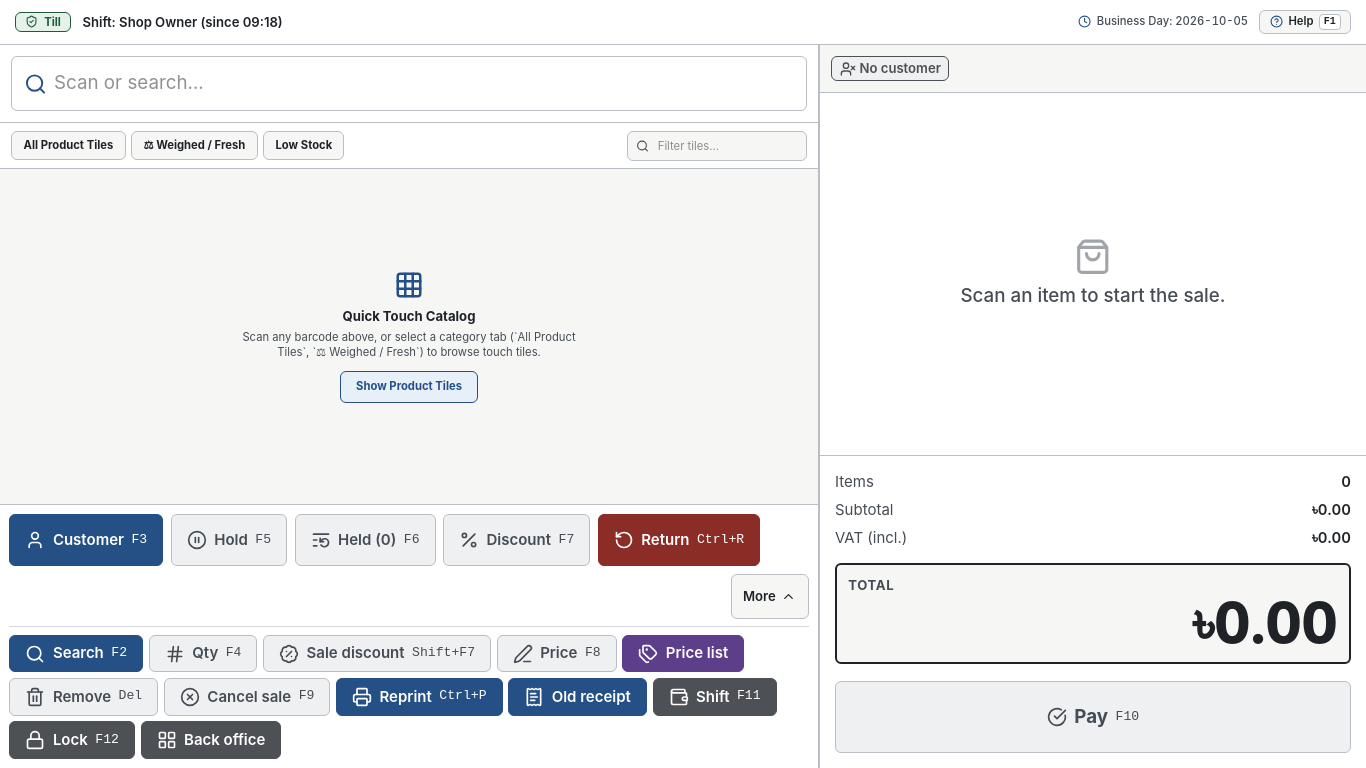
Test case: Returns, exchanges and voids (fake bridge) › ret_01: a return with the receipt refunds in cash and says how much to give back
This screenshot has width=1366, height=768.
Expected: the text "Scan an item to start the sale." is shown, [960, 283, 1226, 310]
Type keys "{Control>}r{/Control}"
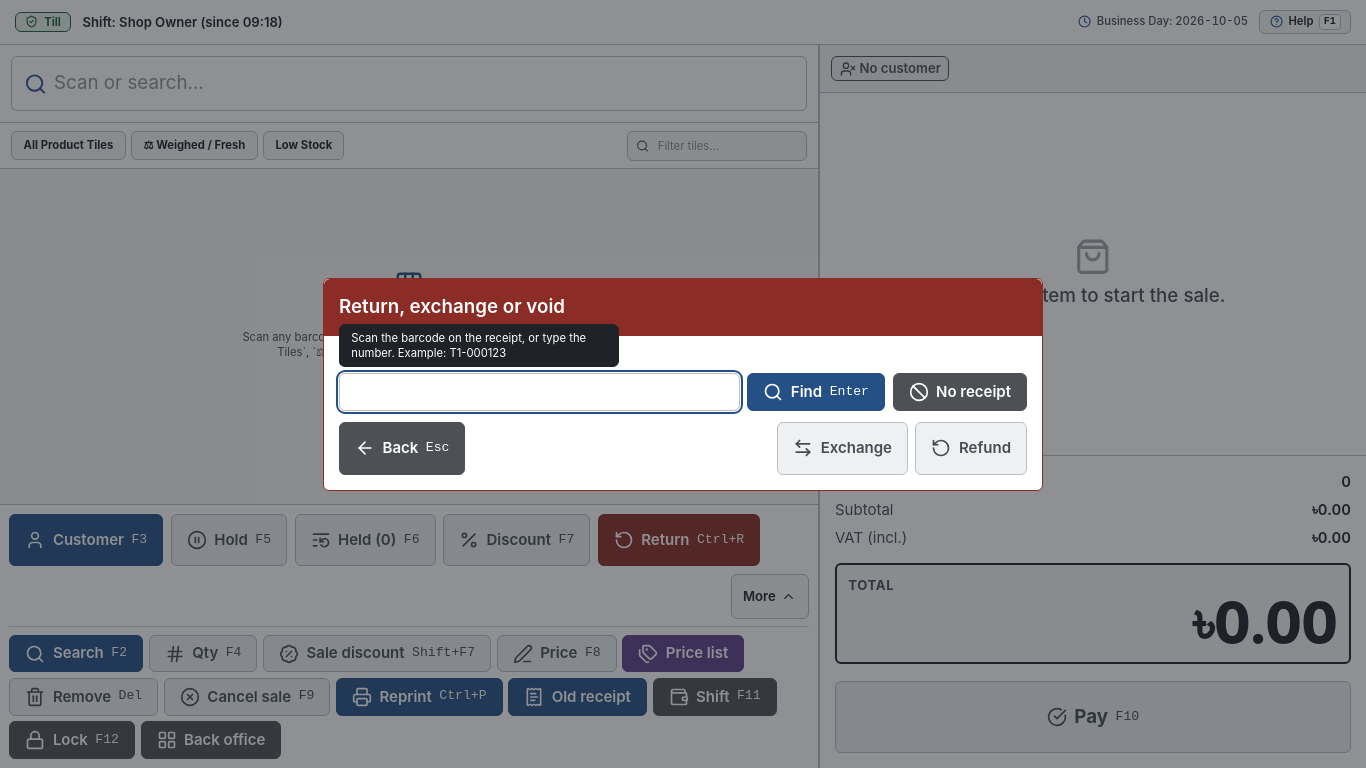
Type "T1-000001" into the field labelled "Invoice number" at (539,392), box [339, 373, 740, 411]
Then press Enter
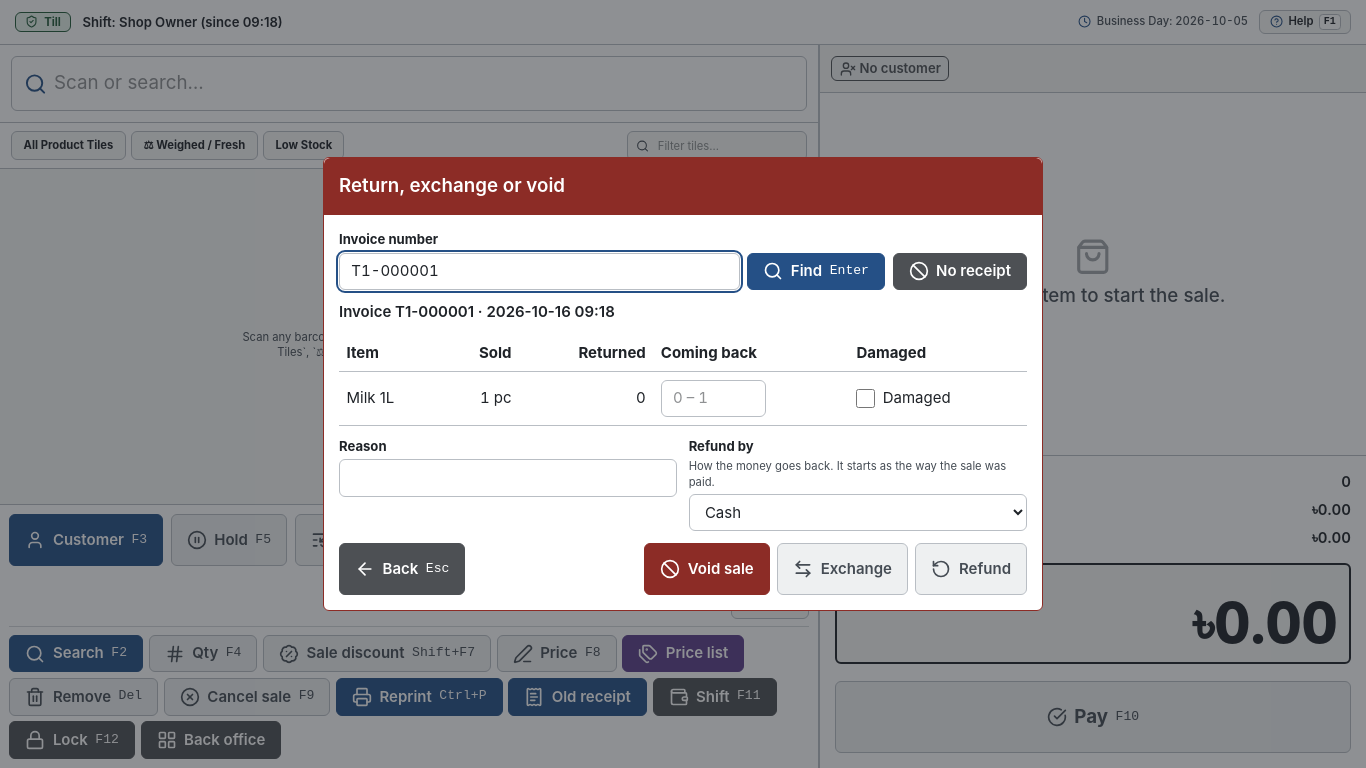
Now the text "Invoice T1-000001 · 2026-10-16 09:18" is shown, box [339, 302, 615, 321]
Type "1" into the field with placeholder "0 – 1" at (713,398), box [661, 380, 766, 417]
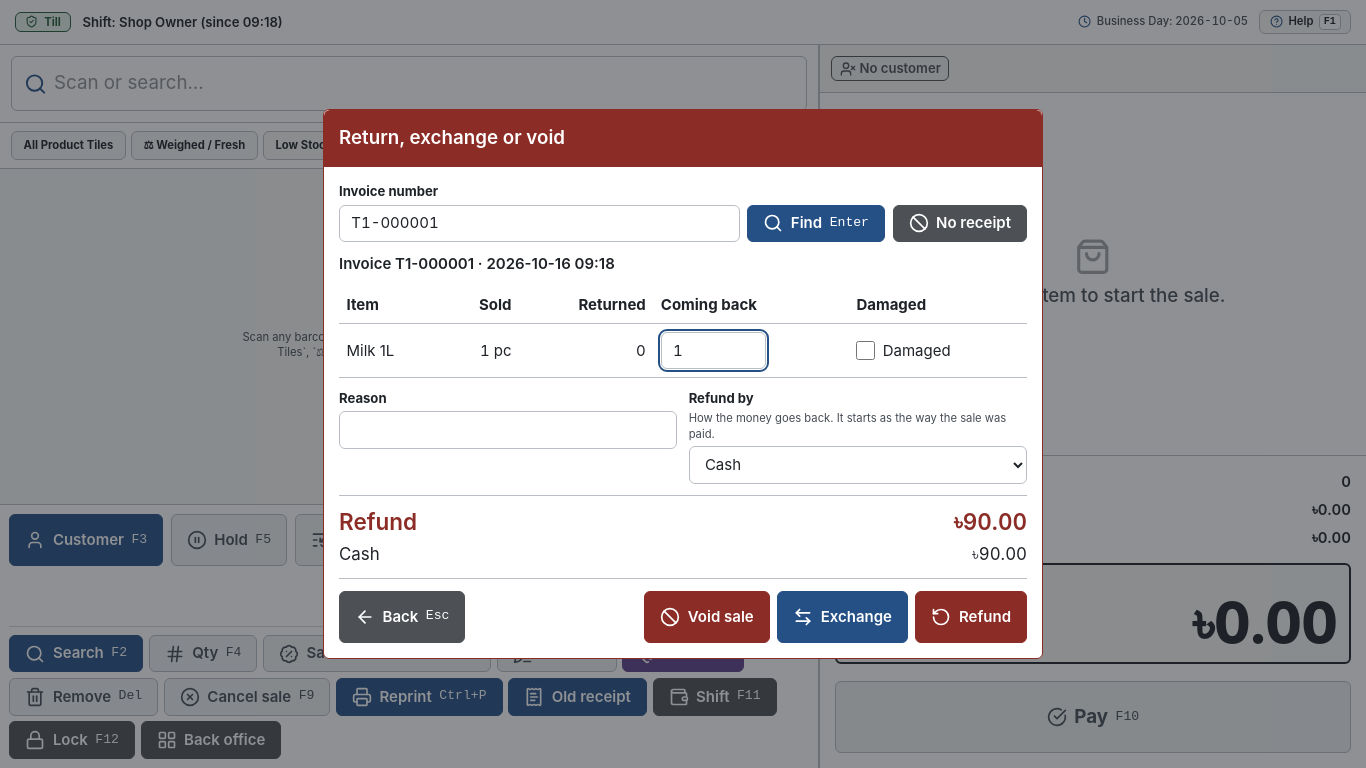
Type "Wrong size" into the field labelled "Reason" at (508,430), box [339, 411, 677, 449]
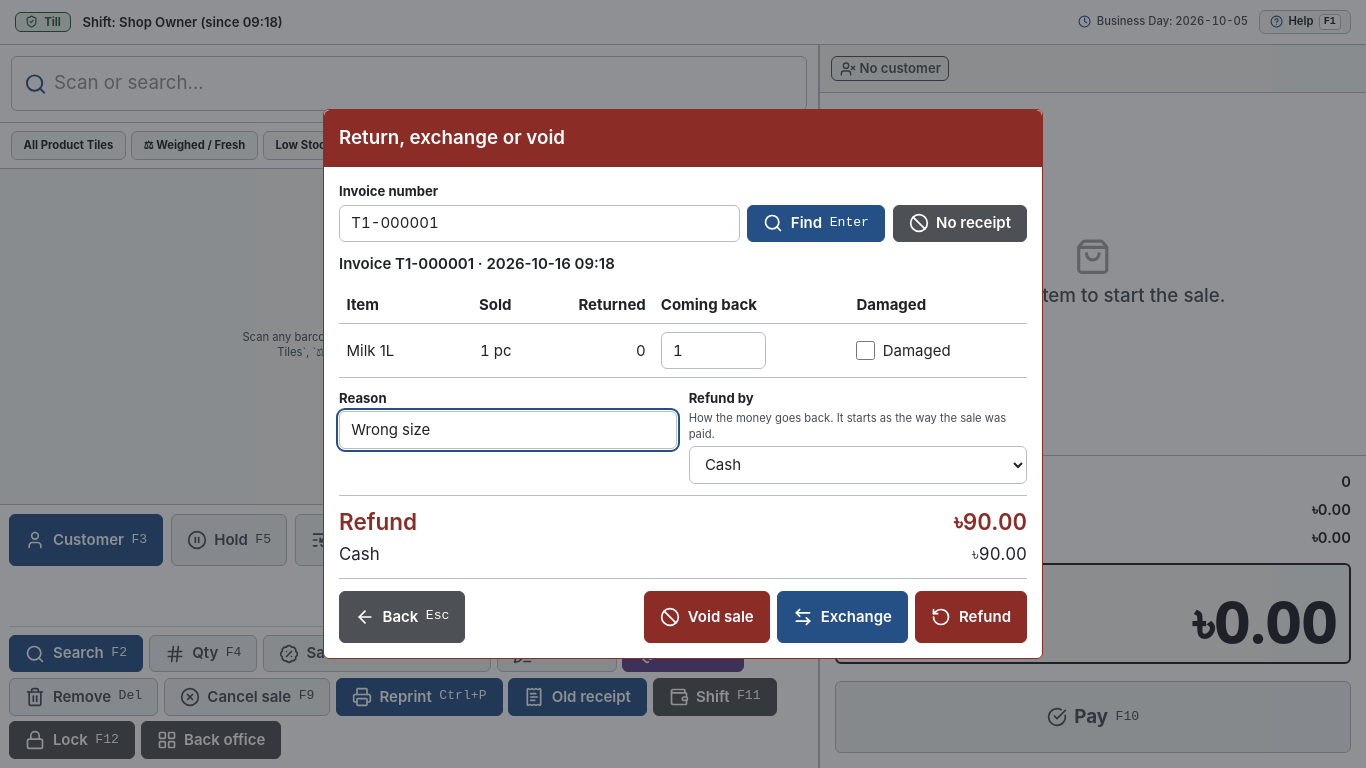
Click the button "Refund" at (971,617), box [916, 591, 1027, 643]
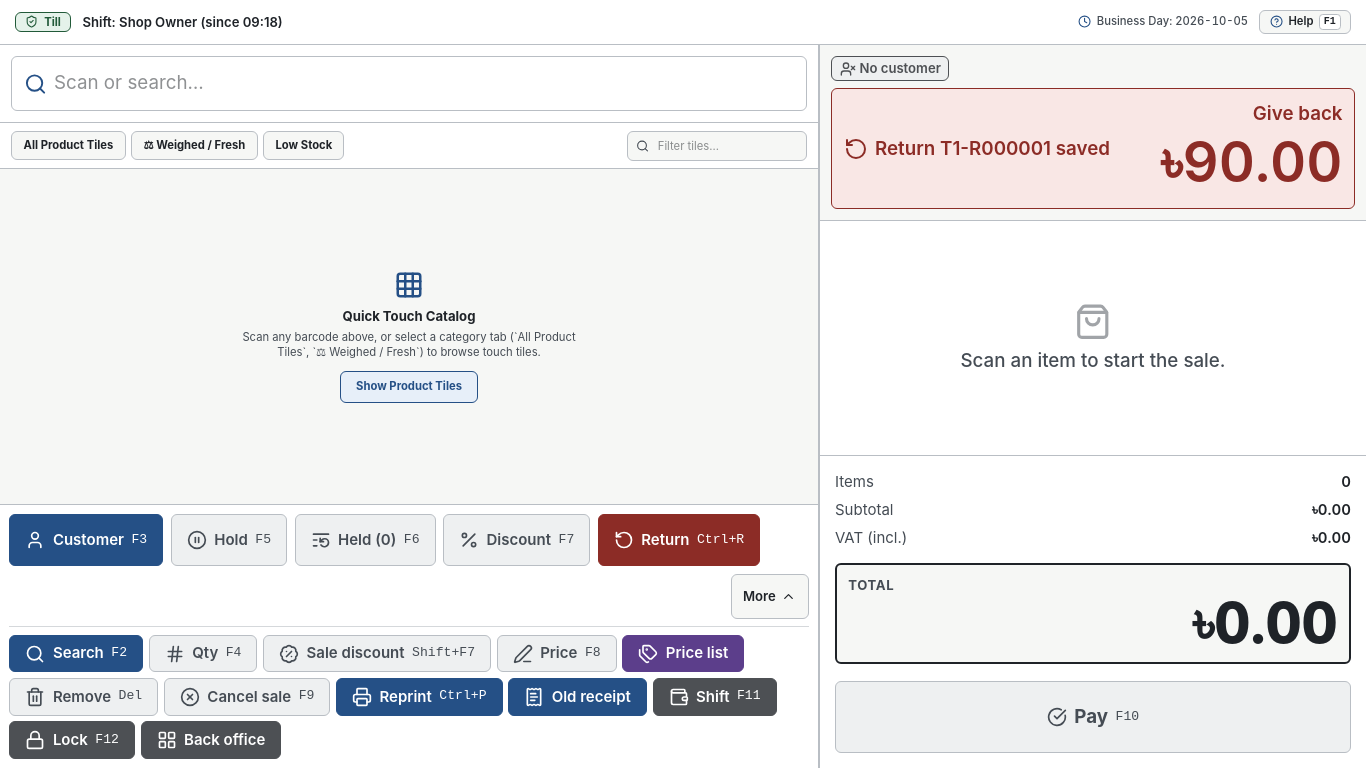
Now the text "৳90.00" is shown, box [1161, 128, 1342, 196]
Now the text "Return T1-R000001 saved" is shown, box [844, 136, 1110, 162]
Now the text "Give back" is shown, box [1253, 102, 1342, 124]
